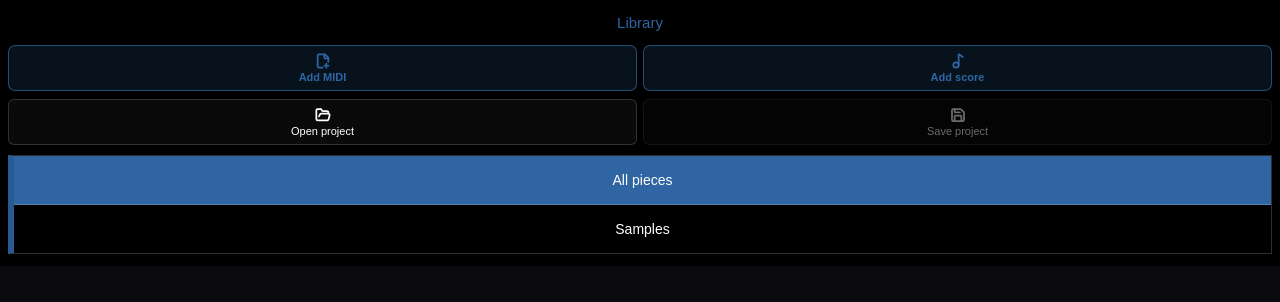
Test: PieceFilesColumn › imports a MusicXML score into the editable library
Click the button "Add score". click: (958, 68)
box: [643,45,1272,91]
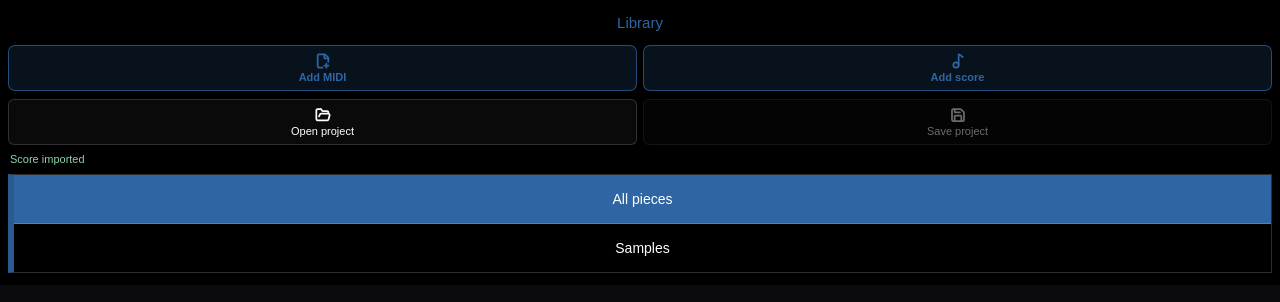
Check: the message reads "Score imported", box [10,153,85,165]
